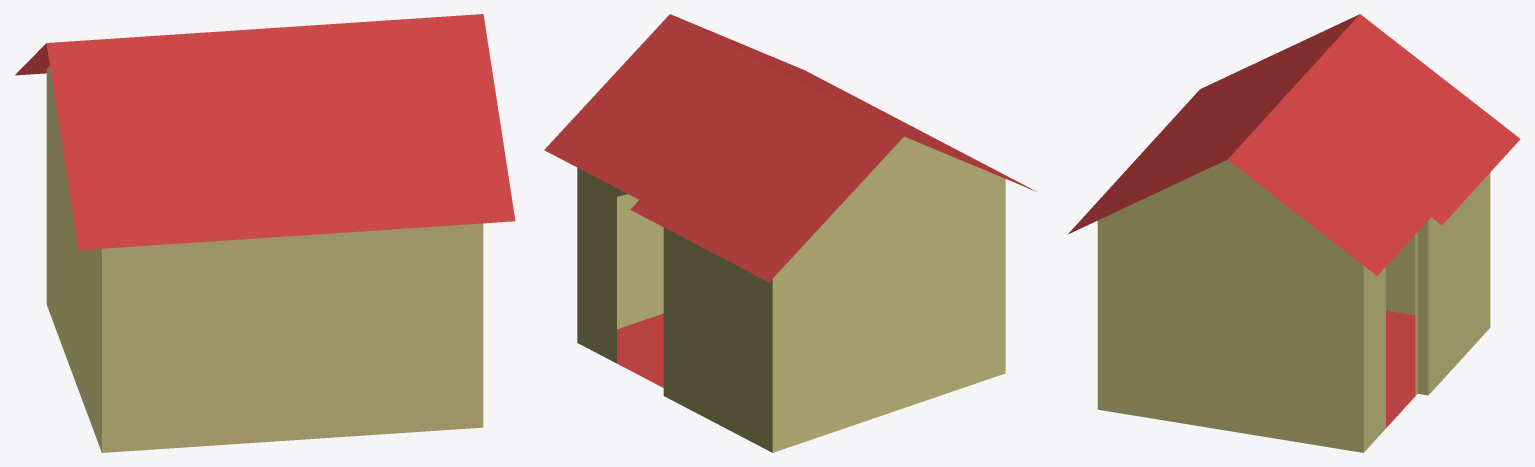
3 renders of one model, left to right at view 1: azimuth 30°, elevation 25°; view 2: azimuth 150°, elevation 25°; view 3: azimuth 270°, elevation 25°, orthographic. The views are drawn at different scales.
Bounding box in the file's own units: 19.74 × 19.3 × 13.24.
